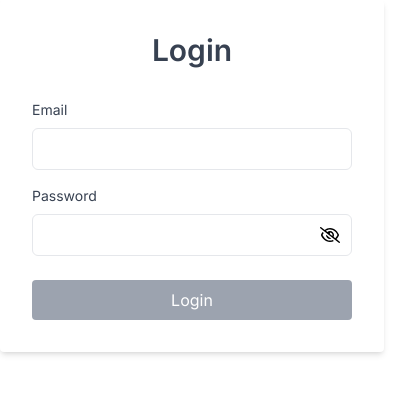
Test: Signinコンポーネント › メールアドレスが不正な形式の場合、エラーメッセージが表示され、Signinボタンを押せないこと
Step 1. Type "test" into the field labelled "Email" → point(192, 149), box x1=32 y1=128 x2=352 y2=170
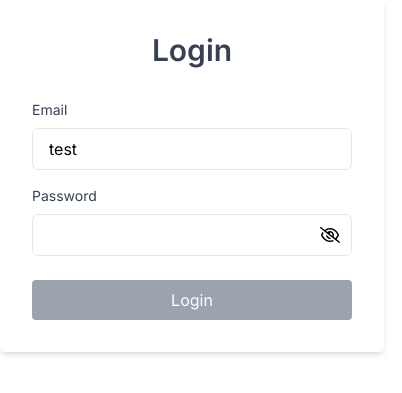
Step 2. Type "password123" into the password field labelled "Password" → point(192, 235), box x1=32 y1=214 x2=352 y2=256
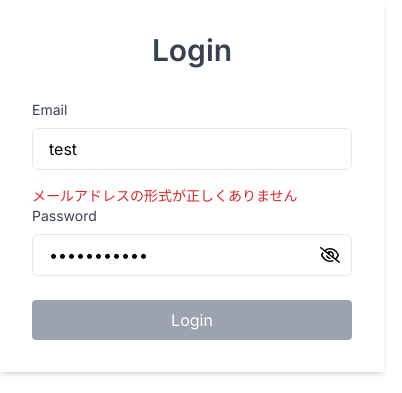
Expected: the button "Login" is disabled, x1=32 y1=300 x2=352 y2=340
Now the text "メールアドレスの形式が正しくありません" is shown, box x1=32 y1=187 x2=298 y2=204
